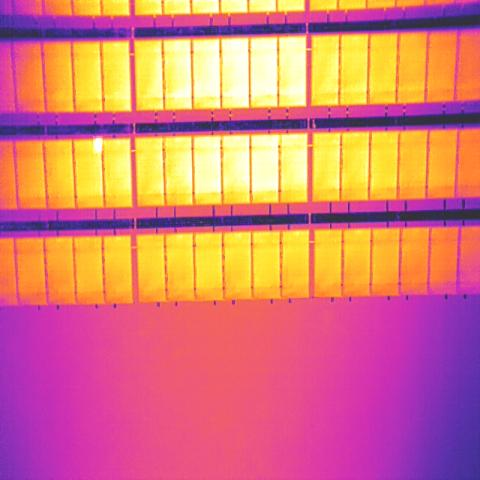fault: (93, 136, 103, 154)
